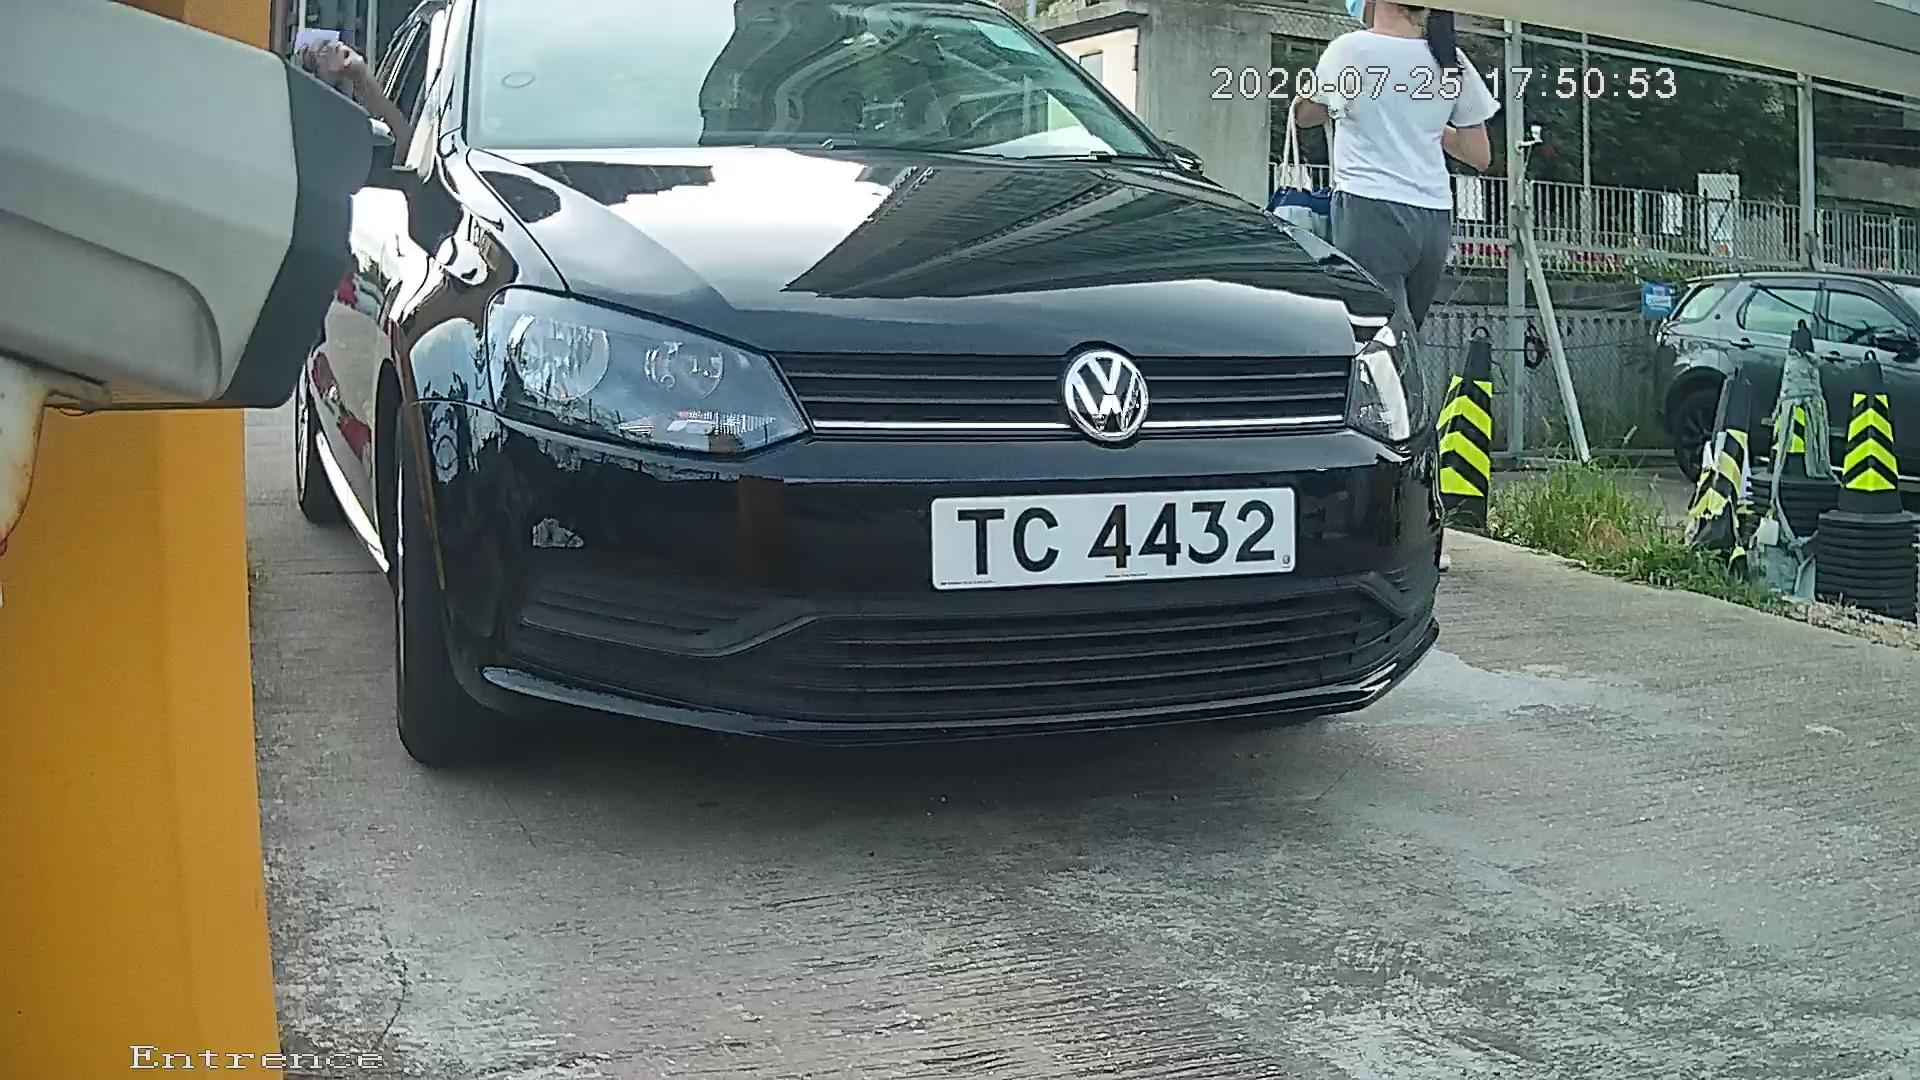License Plate: (926, 478, 1303, 603)
